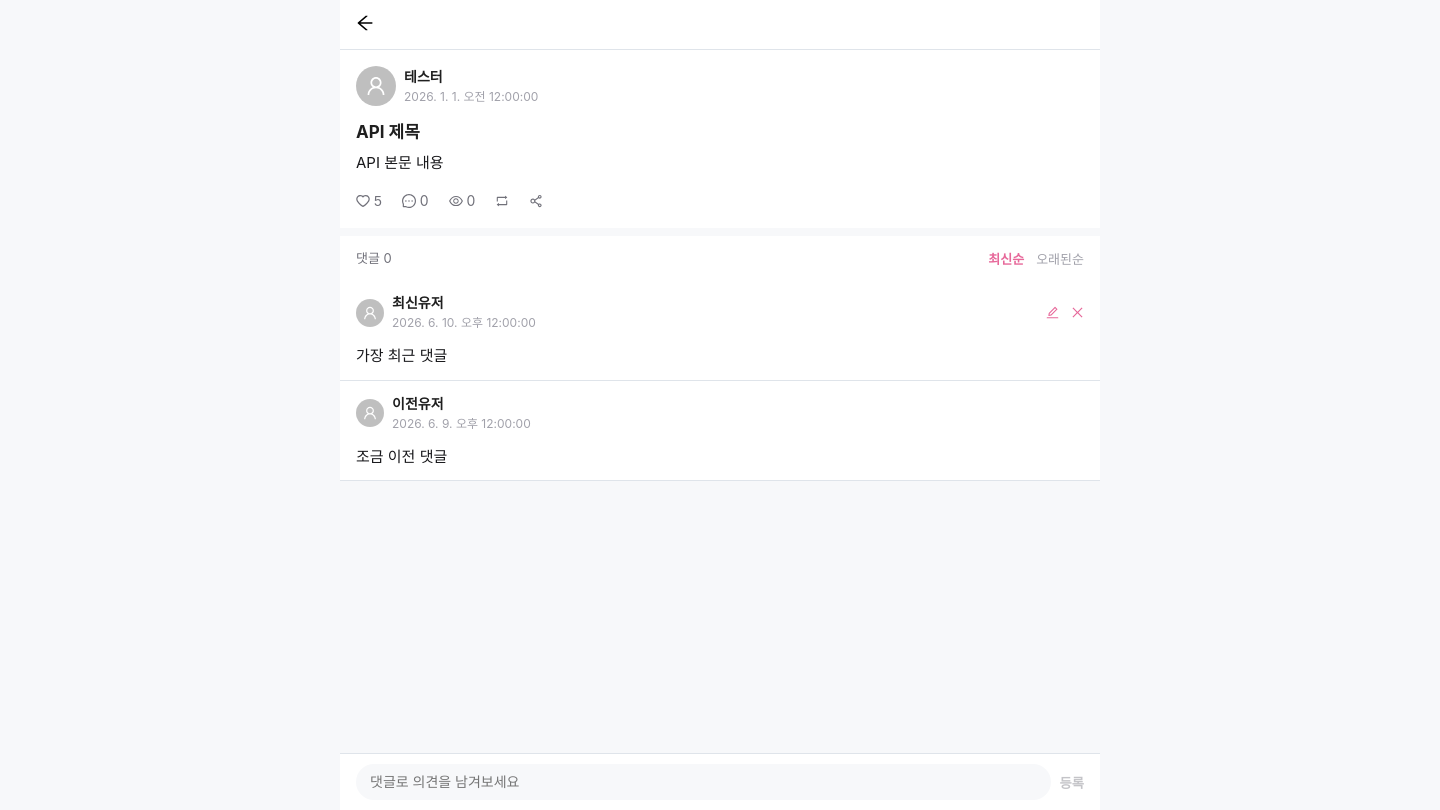
it: CommunityDetail › 로그인 상태에서 하트 클릭 시 응답 전에 즉시 카운트가 증가하고(옵티미스틱) 등록 요청이 발생한다
expect the text "API 본문 내용" is shown: met, box [356,152,444,172]
Click the button named "좋아요".
click(369, 201)  # box [356,190,382,212]
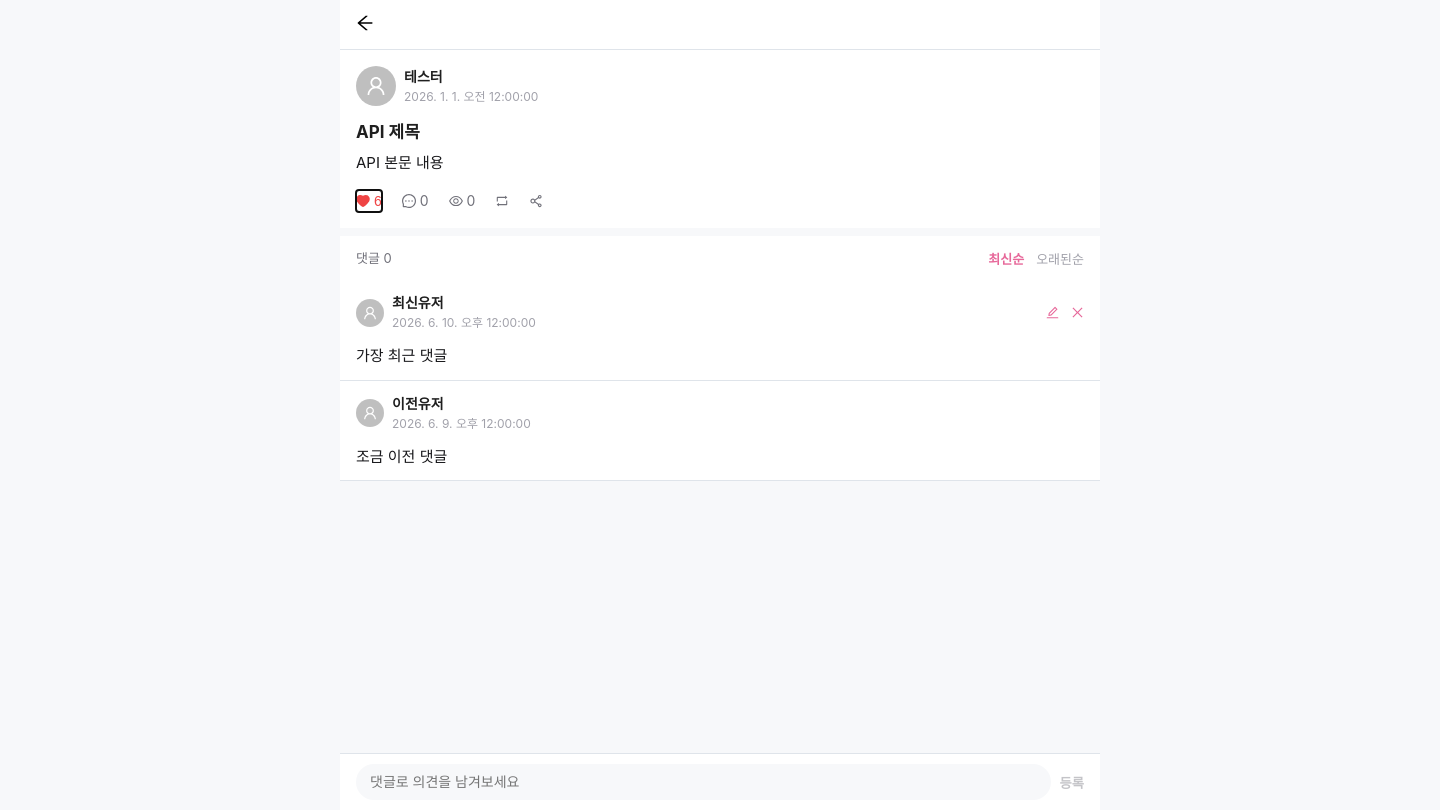
expect the button named "좋아요" reads "6": met, box [356,190,382,212]
